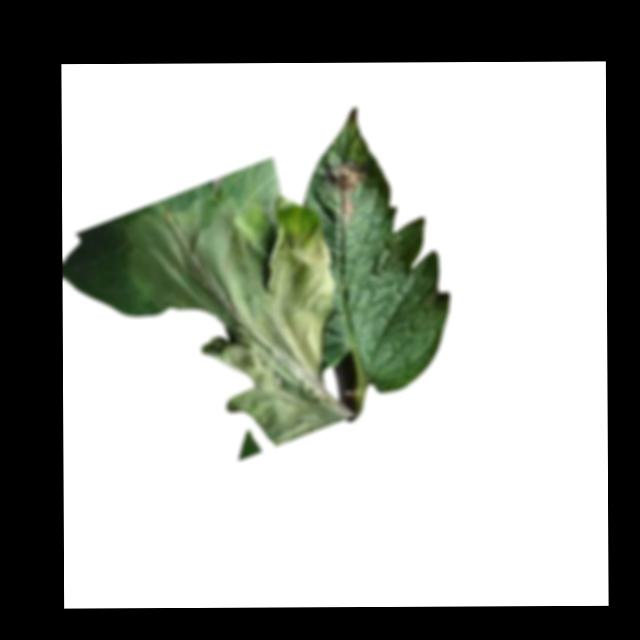Late_blight: (98, 195, 351, 445), (327, 159, 359, 217)
